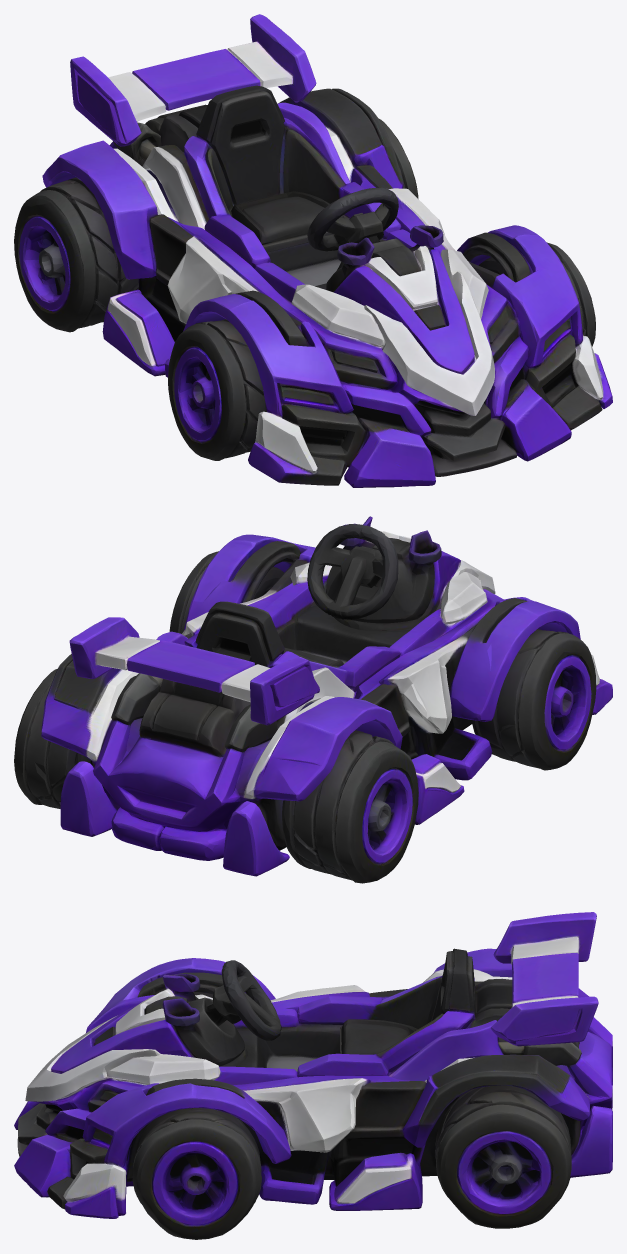
3 renders of one model, top to bottom at view 1: azimuth 30°, elevation 25°; view 2: azimuth 150°, elevation 25°; view 3: azimuth 270°, elevation 25°, orthographic. The views are drawn at different scales.
Parts seen in each view (by area): view 1: vesper_body, wheel_rear_left, wheel_front_left, wheel_front_right, wheel_rear_right; view 2: vesper_body, wheel_rear_left, wheel_front_left, wheel_rear_right, wheel_front_right; view 3: vesper_body, wheel_rear_right, wheel_front_right.
Part boxes in pixels (<box>): vesper_body: <box>42,14,612,487</box>; wheel_rear_left: <box>14,178,134,332</box>; wheel_front_left: <box>168,319,266,460</box>; wheel_front_right: <box>547,242,595,346</box>; wheel_rear_right: <box>378,118,418,198</box>; vesper_body: <box>41,516,612,876</box>; wheel_rear_left: <box>295,730,418,883</box>; wheel_front_left: <box>480,629,596,770</box>; wheel_rear_right: <box>14,669,65,808</box>; wheel_front_right: <box>169,551,218,633</box>; vesper_body: <box>14,912,612,1218</box>; wheel_rear_right: <box>435,1086,571,1228</box>; wheel_front_right: <box>132,1108,261,1239</box>.
Size of the model in its own units: 2.43 by 1.35 by 3.6.
Materials: 1 (1 with a texture image).
